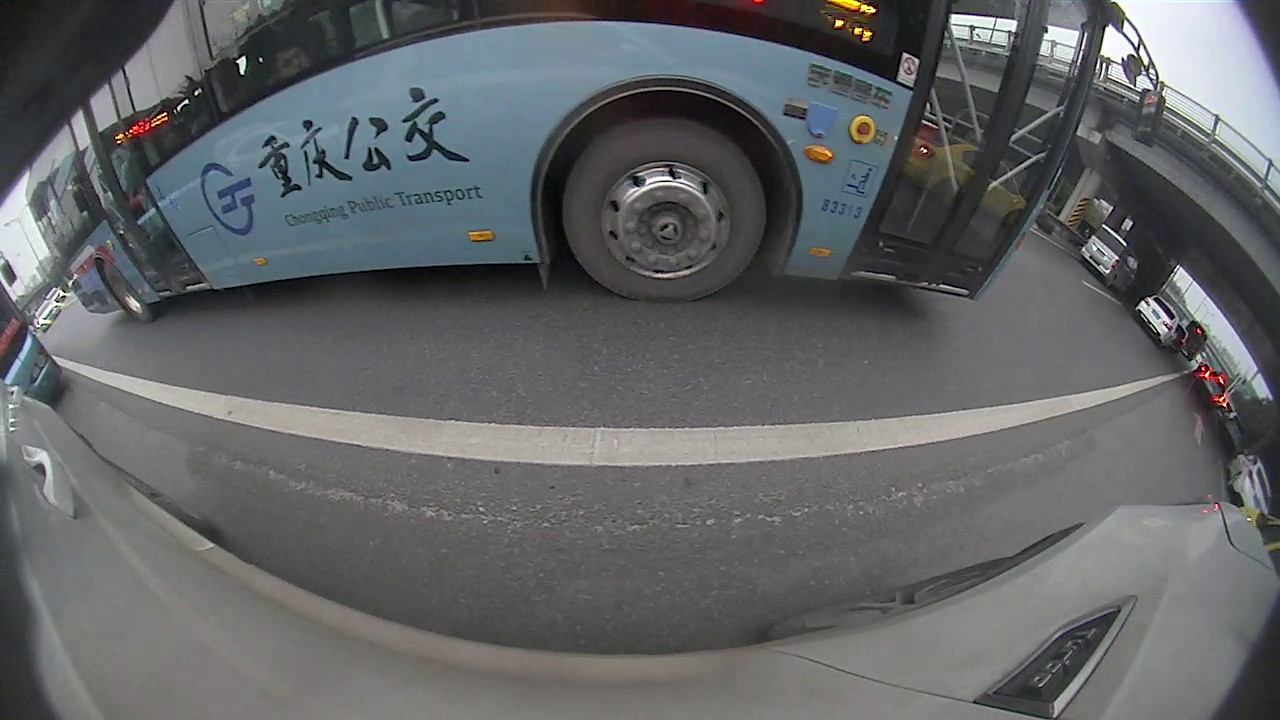bus: (24, 1, 1166, 323)
car: (1080, 223, 1138, 297), (1134, 293, 1181, 347)
front: (560, 114, 770, 305)
rear: (101, 259, 155, 323)
